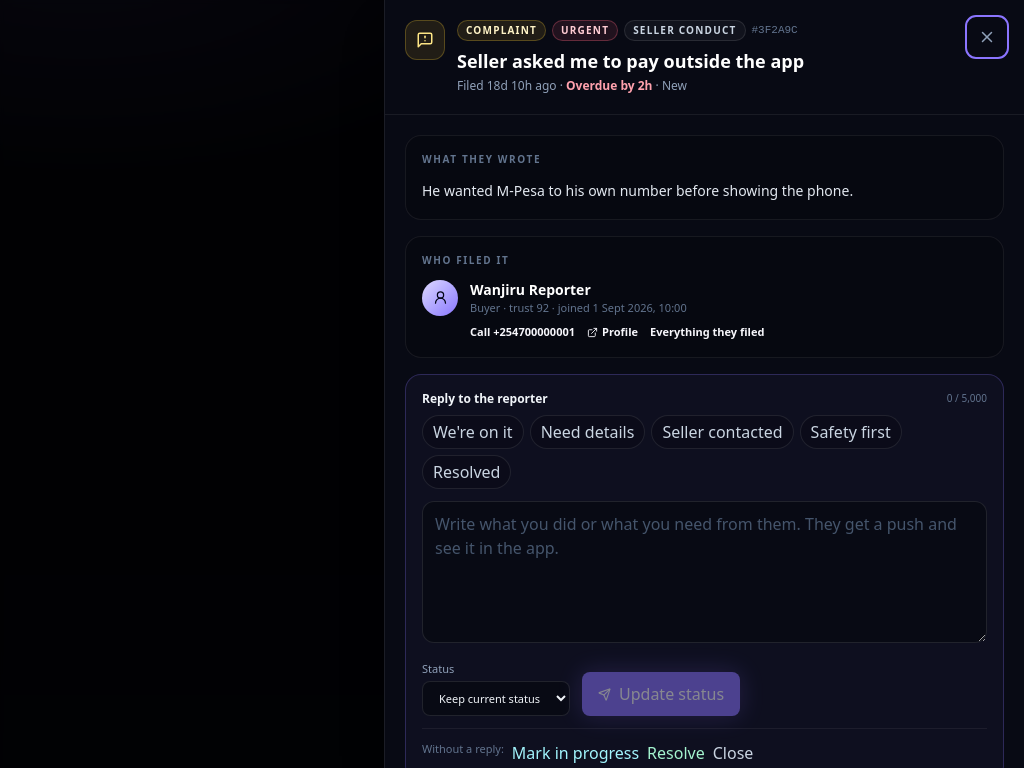
ComplaintDrawer › sends a templated reply with its status and reports where it was delivered
The width and height of the screenshot is (1024, 768).
What coordinates should you click on to do the following:
click the button "We're on it"
I would click on:
 (473, 432)
Its box is [422,415,524,449].
(page scrolled)
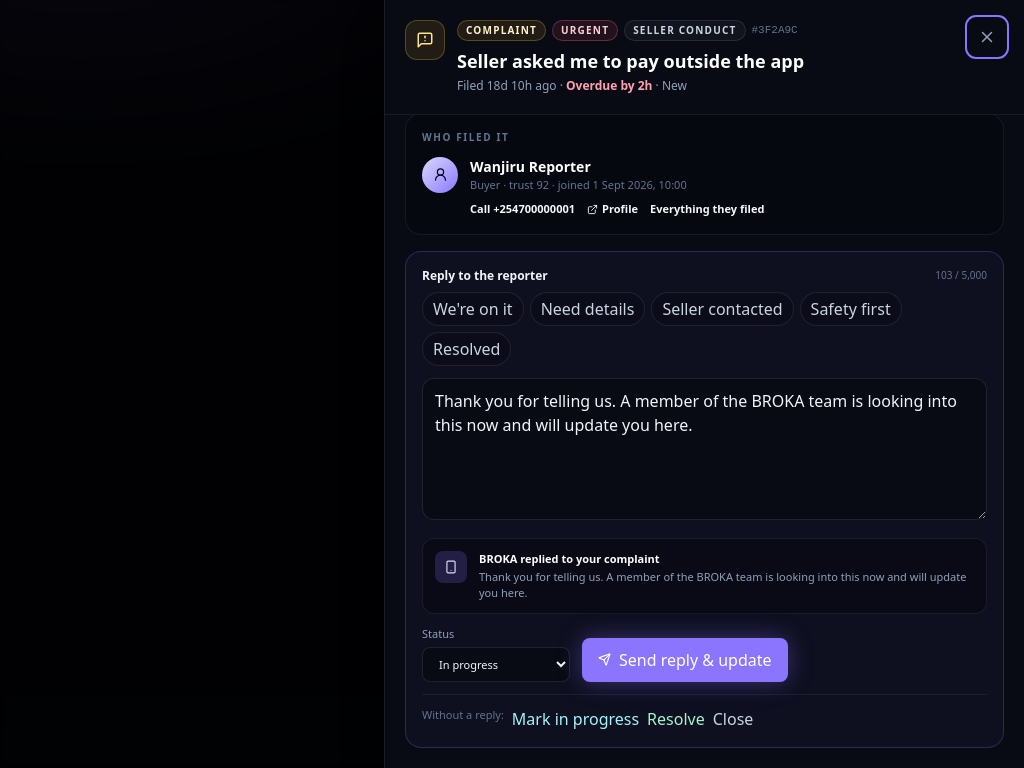
Expected: the dropdown labelled "Status" shows "In progress", [422,647,570,682]
Expected: the element named "Push notification preview" shows "BROKA replied to your complaint", [479,551,660,566]
What coordinates should you click on to do the following:
click the button "Send reply & update"
I would click on:
 (685, 660)
Its box is [582,638,788,682].
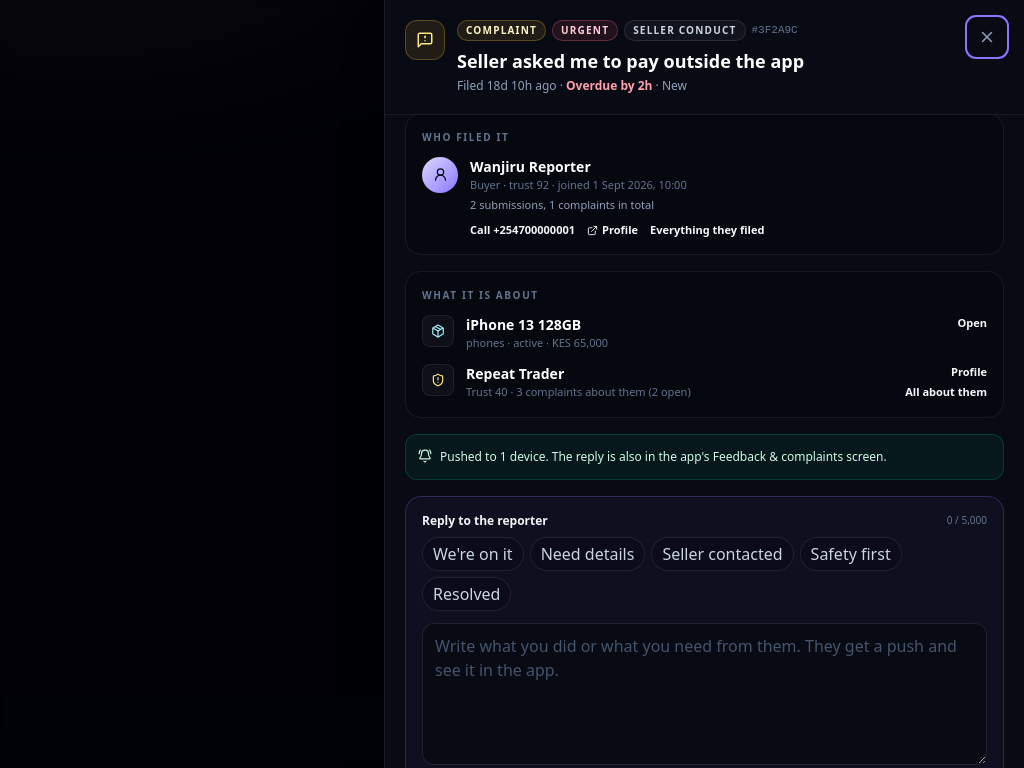
Expected: the text "Pushed to 1 device." is shown, [440,448,887,465]
